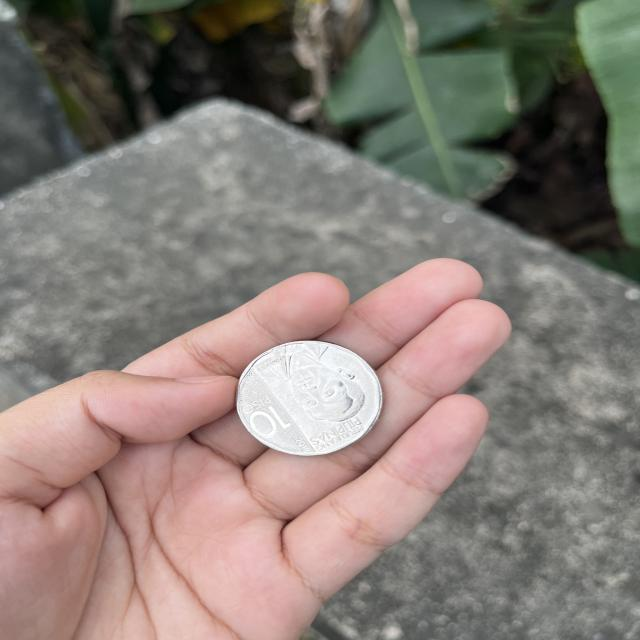10_New_Front: (238, 396, 290, 439)
